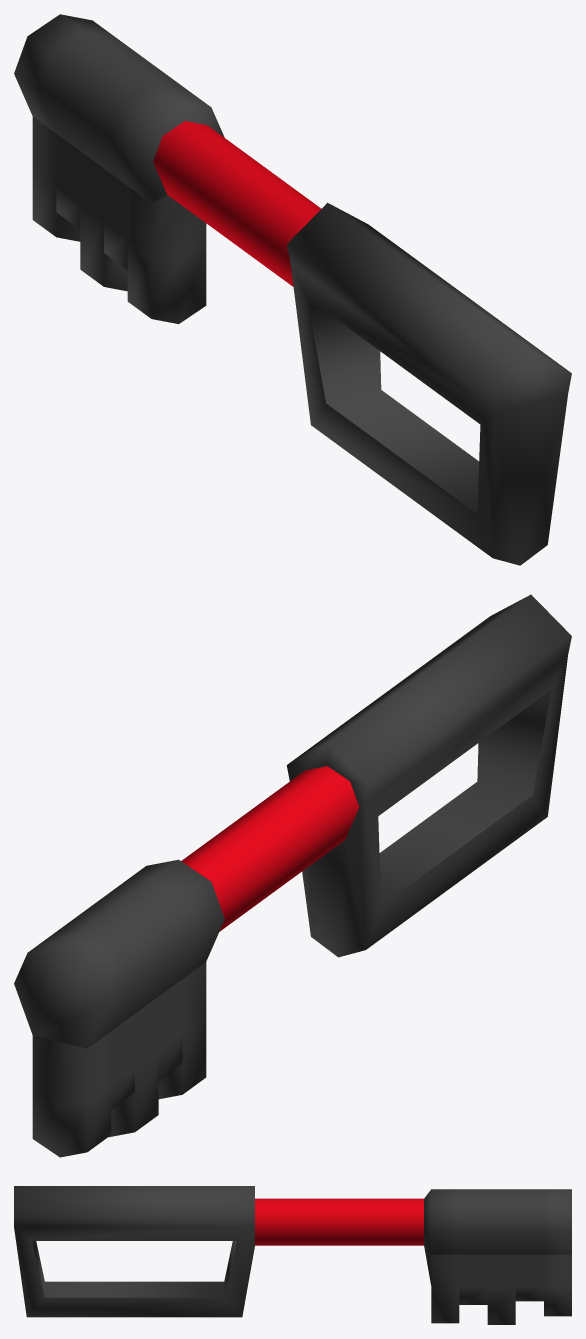
File: Key.fbx
The picture shows the model from 3 angles, top to bottom: view 1: azimuth 30°, elevation 25°; view 2: azimuth 150°, elevation 25°; view 3: azimuth 270°, elevation 25°; orthographic projection. The views are drawn at different scales.
Visible parts, largest first — view 1: KeyPadlock; view 2: KeyPadlock; view 3: KeyPadlock.
Part boxes in pixels (<box>): KeyPadlock: <box>14,14,571,565</box>; KeyPadlock: <box>14,594,571,1157</box>; KeyPadlock: <box>14,1186,571,1324</box>.
Bounding box in the file's own units: 0.0831 × 0.201 × 0.7364.
